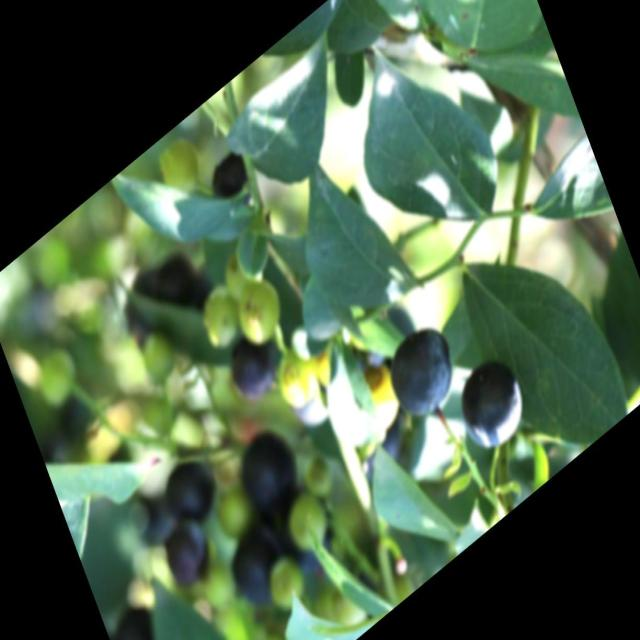blueberry: (379, 310, 464, 430), (450, 341, 531, 464), (230, 417, 306, 529), (228, 523, 288, 614), (162, 453, 223, 540), (225, 322, 284, 409), (162, 516, 216, 594), (208, 140, 262, 217)
blueberry-unripe: (150, 122, 212, 214), (231, 267, 292, 356), (191, 278, 247, 362), (29, 332, 84, 412), (271, 337, 325, 418), (281, 486, 336, 565), (133, 320, 181, 392), (210, 482, 258, 552), (262, 552, 308, 618), (220, 242, 262, 302)
